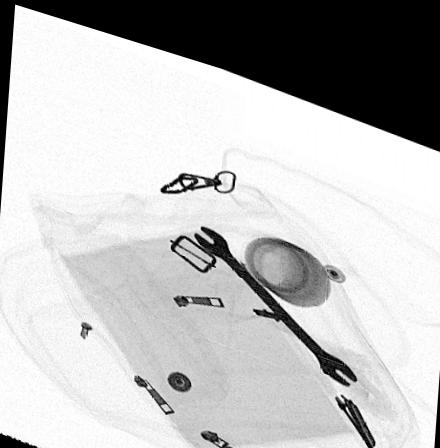Wrench: (192, 210, 359, 368)
